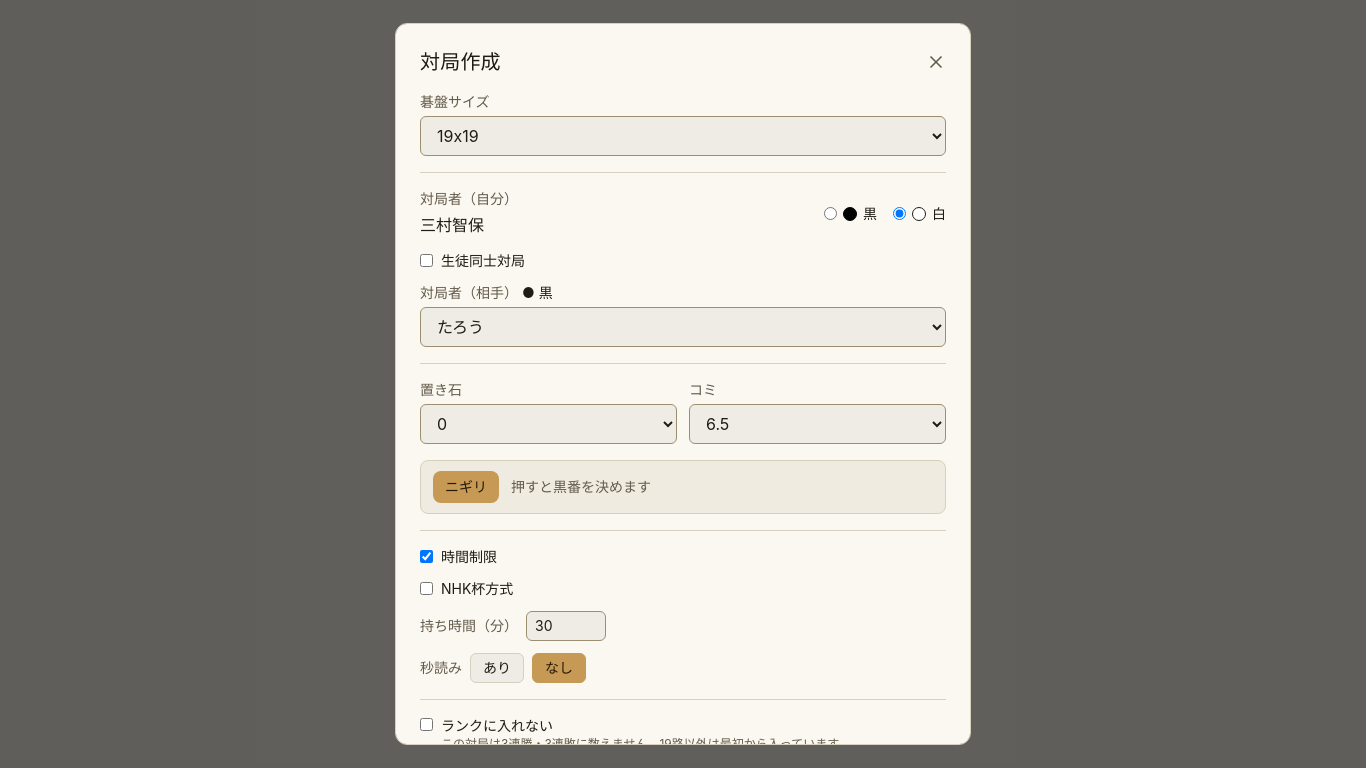
GameCreationDialog › 置き石とコミの連動 › 置き石を選ぶと、コミが 0.5 になる
expect the dropdown with test id "komi-select" shows "6.5": met, box [689, 404, 946, 444]
Select "4" in the dropdown with test id "handicap-select" at (548,424), box [420, 404, 677, 444]
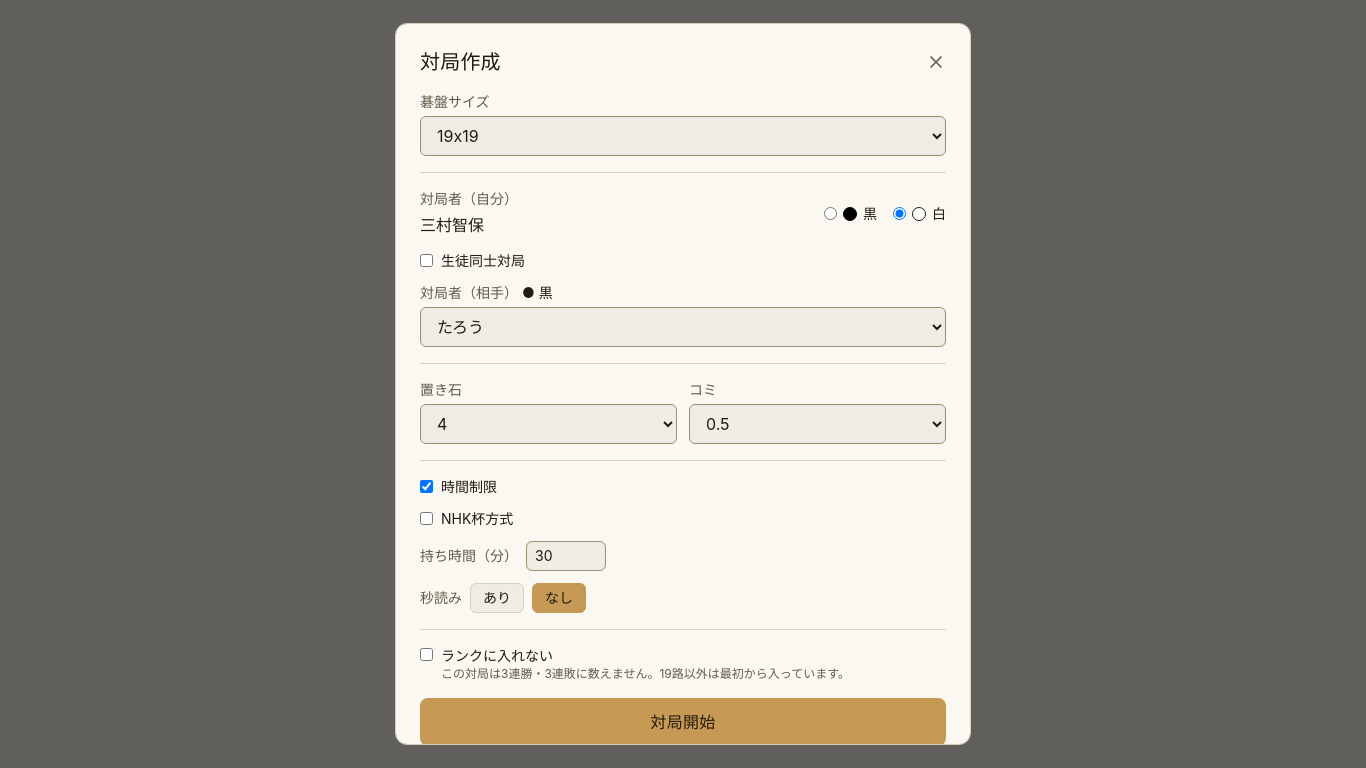
expect the dropdown with test id "komi-select" shows "0.5": met, box [689, 404, 946, 444]
